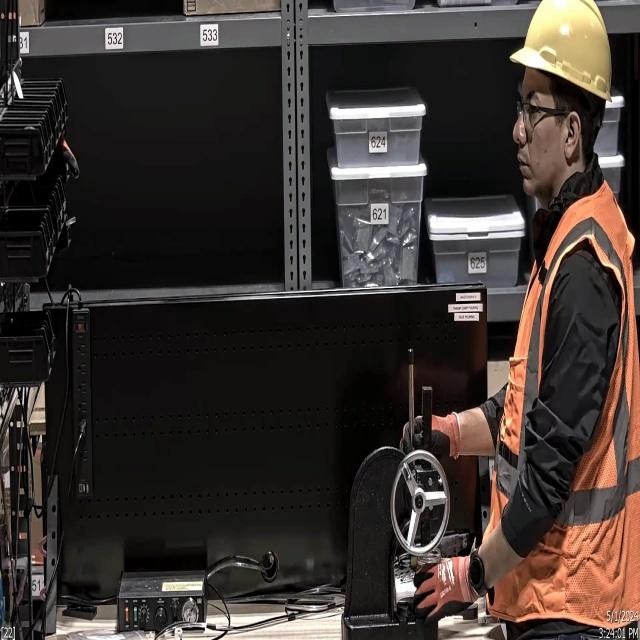gloves: (413, 546, 478, 630), (397, 412, 468, 464)
